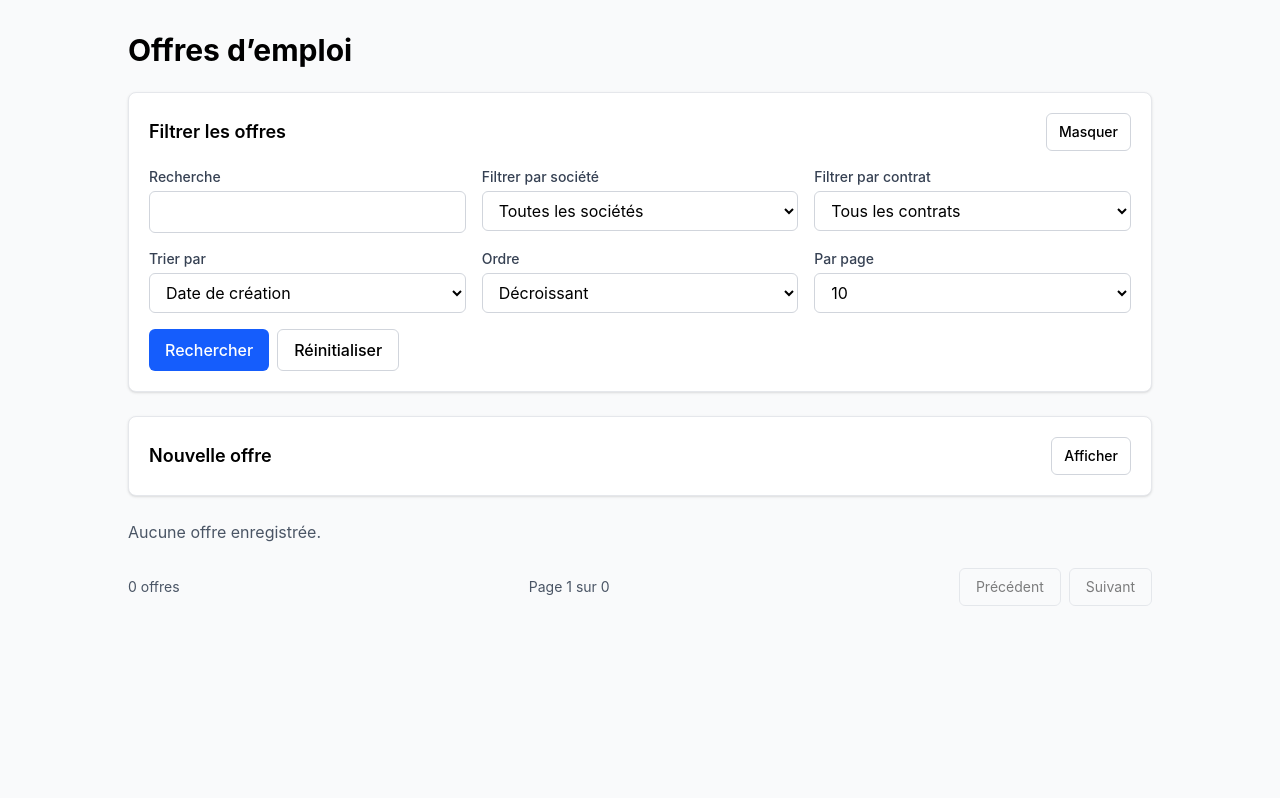
Test: JobOffersPage › announces company loading as an accessible status
Click the button with aria-label "Afficher Nouvelle offre" at x=1091, y=456, box [1051,437,1131,475]
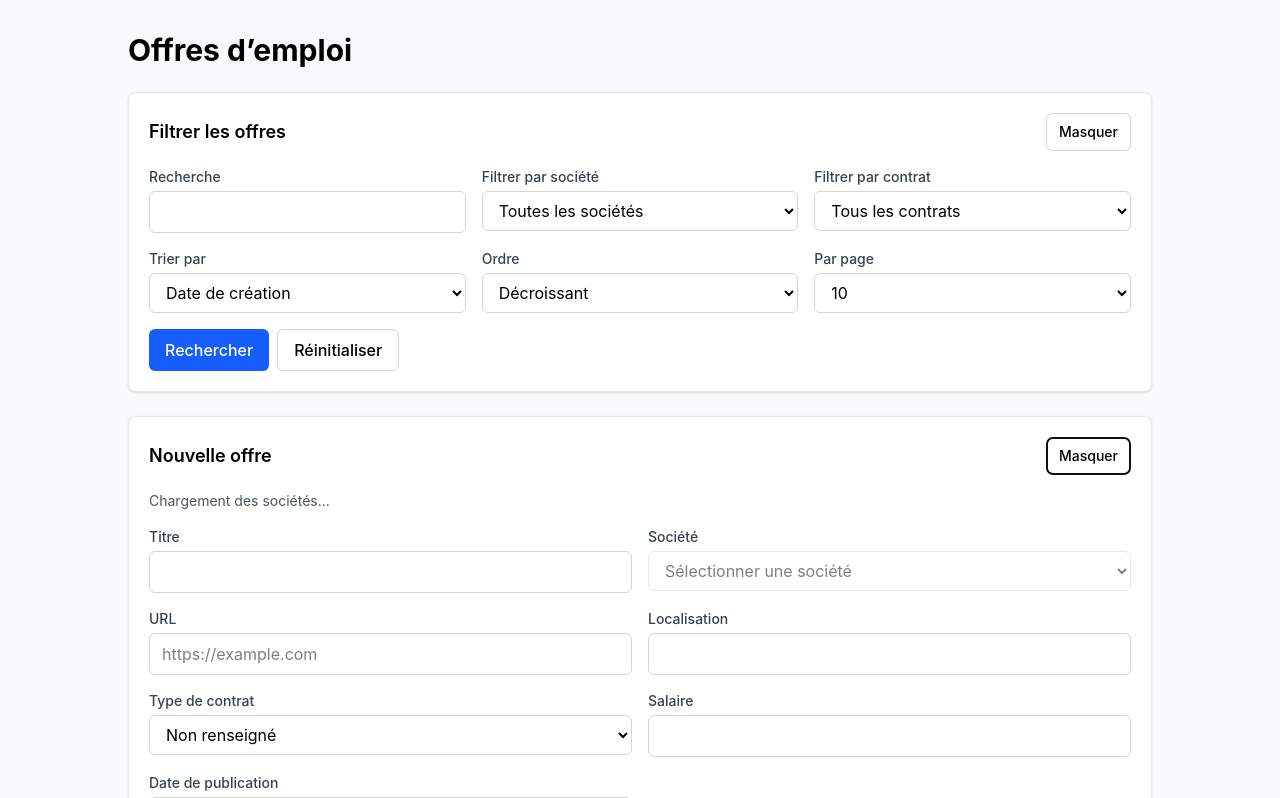
expect the message reads "Chargement des sociétés...": met, box [149,492,330,509]
